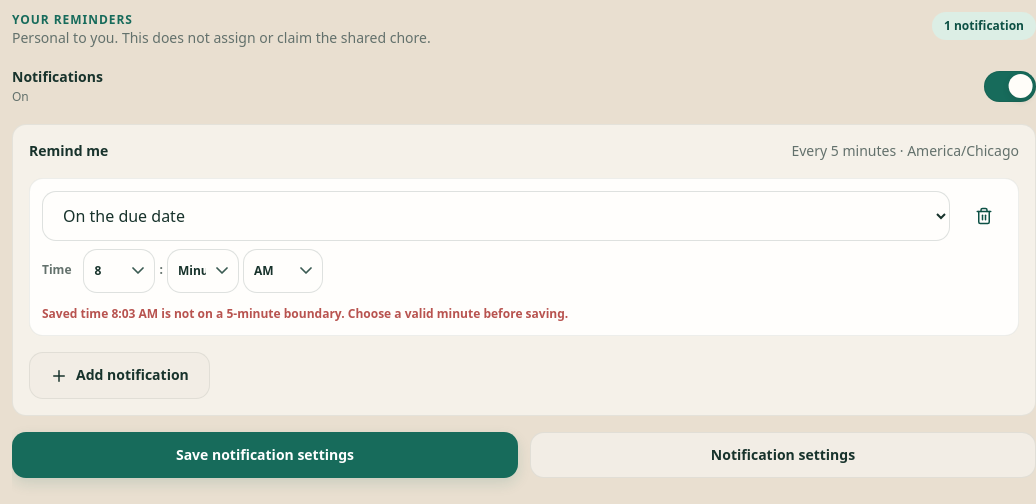
Scenario: ReminderForm › keeps legacy off-grid times visible and requires an explicit correction
This screenshot has width=1036, height=504.
Check: the text "Saved time 8:03 AM is not on a 5-minute boundary" is shown, box 42,305 -> 568,322
Select "05" in the dropdown named "Minute for notification 1" at (203, 271), box 167,249 -> 239,293
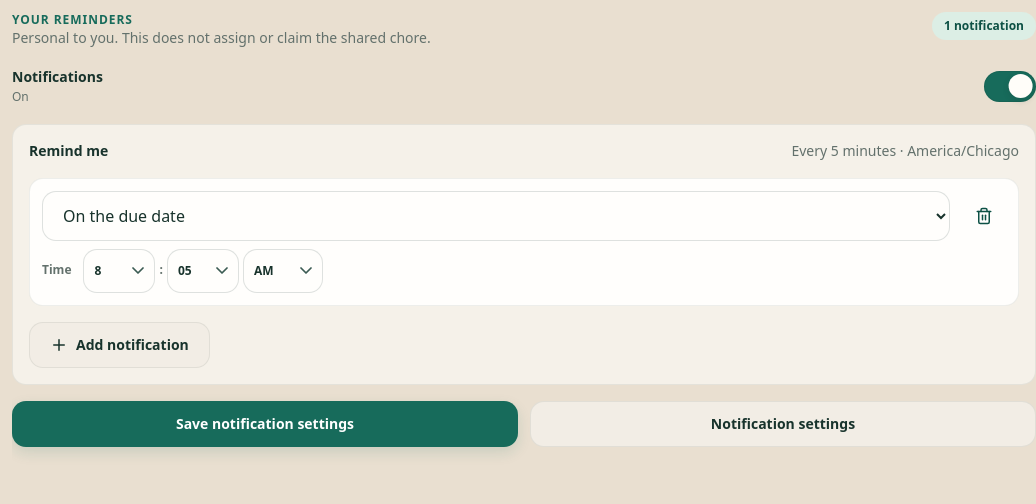
Check: the text "not on a 5-minute boundary" is gone
